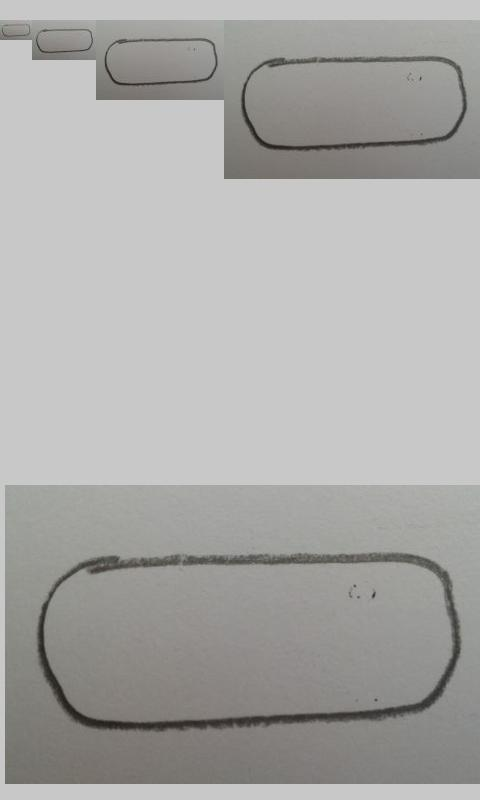chip: (34, 554, 464, 731), (240, 56, 468, 151), (104, 38, 218, 86), (35, 28, 93, 53), (1, 23, 31, 38)
